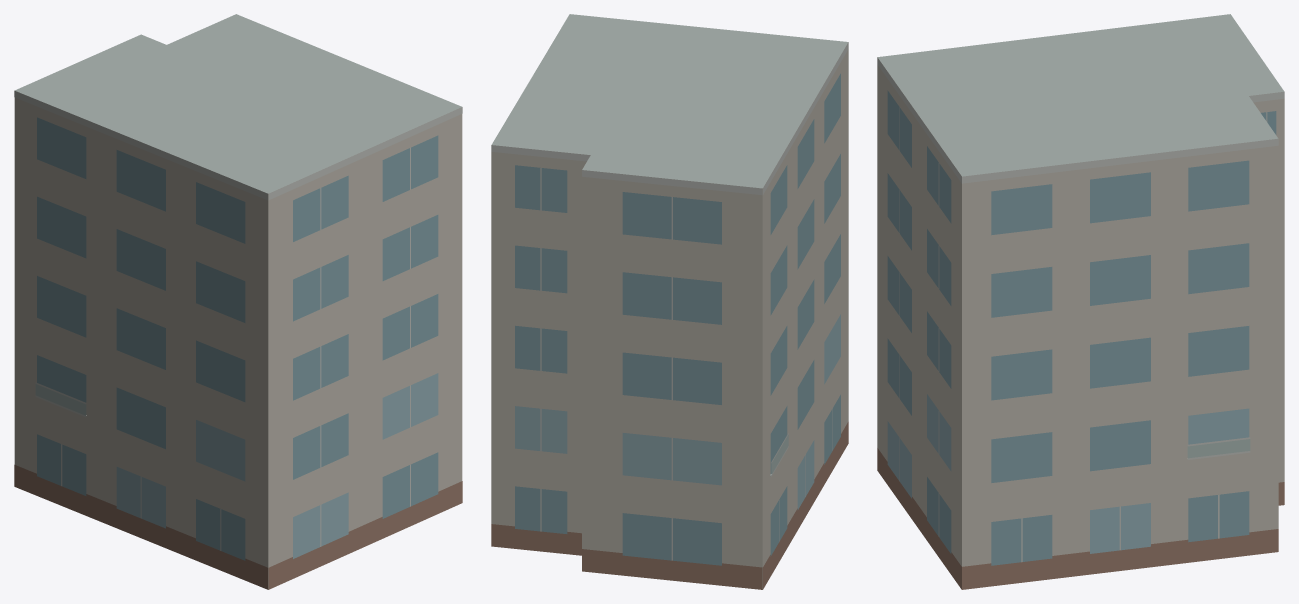
File: survey-upis-33033434.glb
3 views of the same model, side by side, from view 1: azimuth 30°, elevation 25°; view 2: azimuth 150°, elevation 25°; view 3: azimuth 270°, elevation 25° (orthographic). The views are drawn at different scales.
Visible parts, largest first — view 1: survey-upis-33033434.tmp; view 2: survey-upis-33033434.tmp; view 3: survey-upis-33033434.tmp.
Boxes of the visible parts, box(x1,y1,x2,y2) form: survey-upis-33033434.tmp: box(14, 14, 462, 589); survey-upis-33033434.tmp: box(491, 14, 848, 589); survey-upis-33033434.tmp: box(877, 14, 1284, 589).
Bounding box in the file's own units: 12.16 × 14.4 × 12.87.
